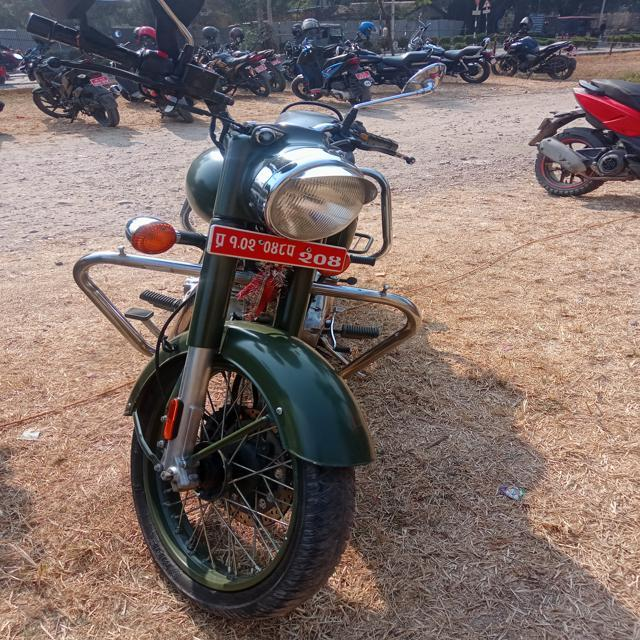license_plate: (200, 215, 370, 284)
